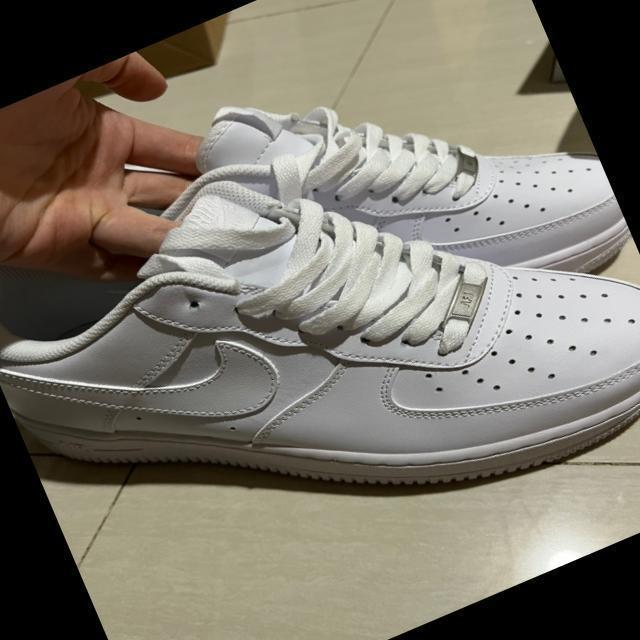nike original air force: (0, 11, 640, 640), (115, 0, 639, 425)
